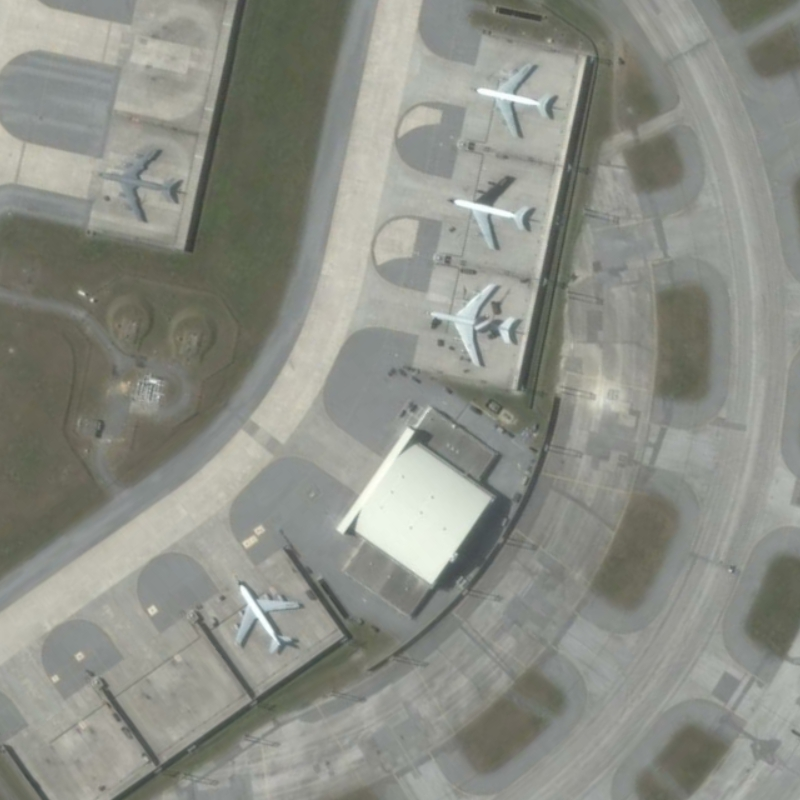A11: (437, 169, 538, 259), (466, 55, 563, 143), (225, 570, 309, 661)
A14: (87, 139, 187, 228)
A7: (420, 273, 524, 372)
